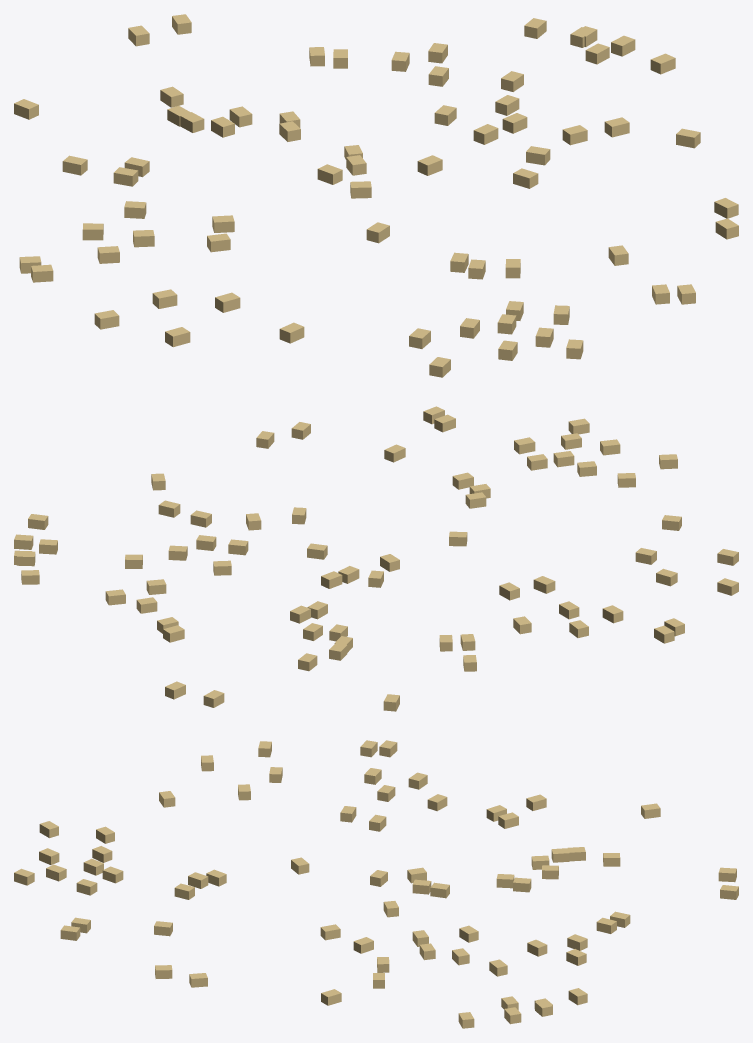
Rendered from grain_spill.glb.
The picture shows the model from 3 angles, top to bottom: view 1: azimuth 30°, elevation 25°; view 2: azimuth 150°, elevation 25°; view 3: azimuth 270°, elevation 25°; orthographic projection. The views are drawn at different scales.
Parts seen in each view (by area): view 1: grain_spill; view 2: grain_spill; view 3: grain_spill.
Boxes of the visible parts, <box> form: grain_spill: <box>14,14,738,377</box>; grain_spill: <box>14,406,738,711</box>; grain_spill: <box>14,740,738,1028</box>.
Bounding box in the file's own units: 0.5543 × 0.008 × 0.6069.
